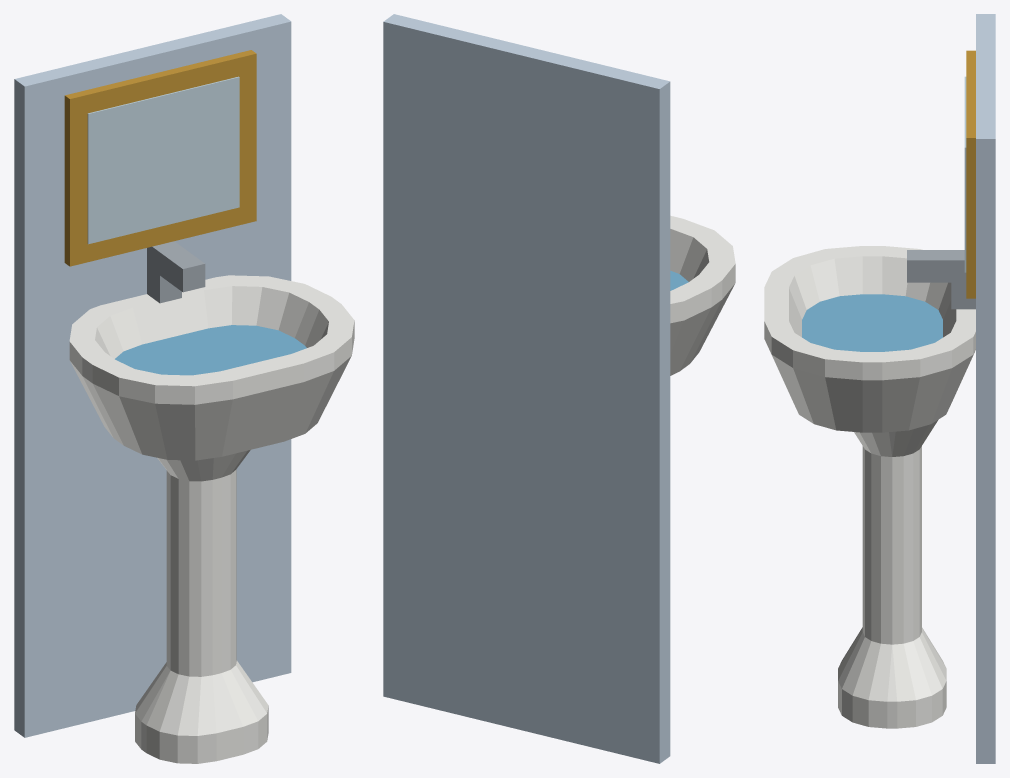
Rendered from sink.glb.
3 views of the same model, side by side, from view 1: azimuth 30°, elevation 25°; view 2: azimuth 150°, elevation 25°; view 3: azimuth 270°, elevation 25° (orthographic). The views are drawn at different scales.
Visible parts, largest first — view 1: sink_Body; view 2: sink_Body; view 3: sink_Body.
Boxes of the visible parts, left/top/right/bottom form: sink_Body: left=14, top=14, right=354, bottom=763; sink_Body: left=383, top=14, right=735, bottom=763; sink_Body: left=764, top=14, right=995, bottom=763.
Size of the model in its own units: 0.6 by 1.4 by 0.47.
